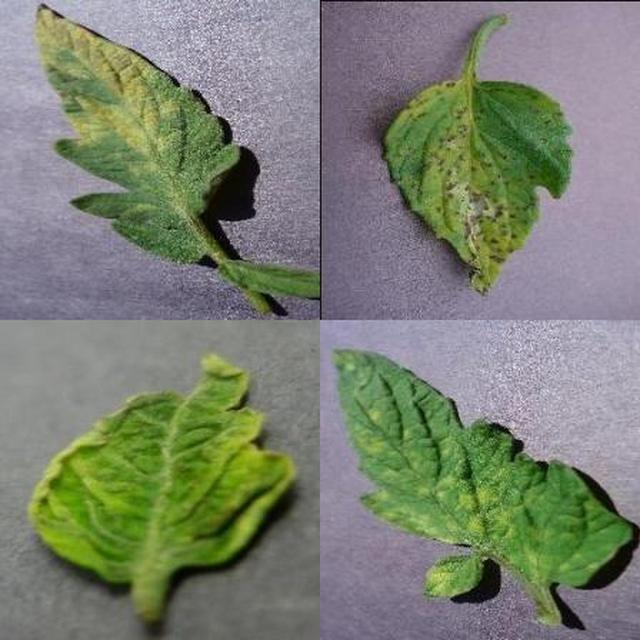Leaf Mold: (200, 191, 640, 640)
